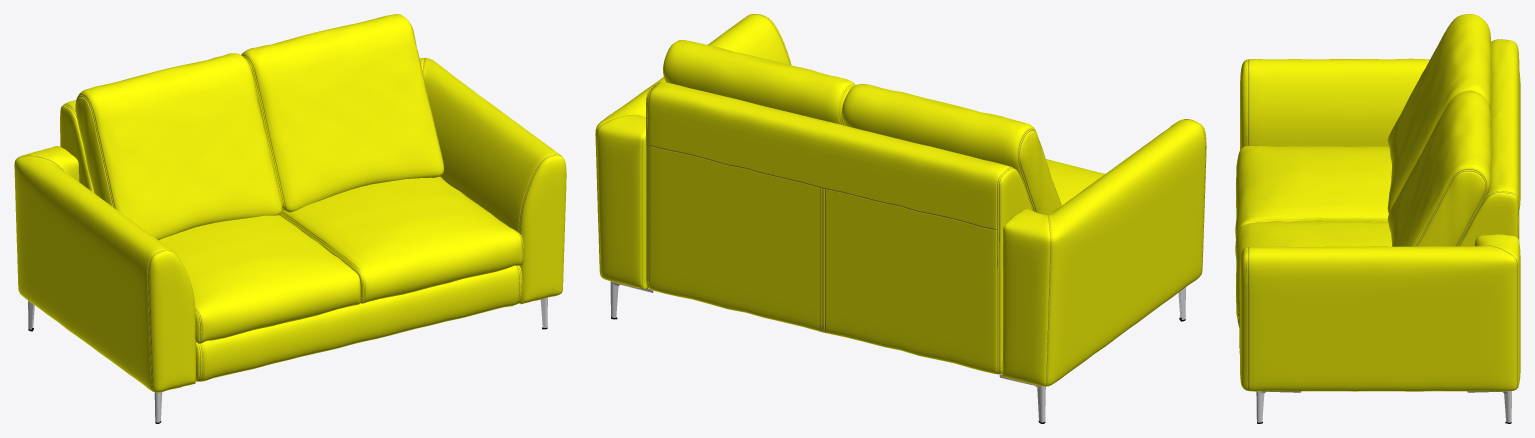
3 renders of one model, left to right at view 1: azimuth 30°, elevation 25°; view 2: azimuth 150°, elevation 25°; view 3: azimuth 270°, elevation 25°, orthographic. The views are drawn at different scales.
Visible parts, largest first — view 1: bodybeige15, armleft15, armright15, metaleg15; view 2: bodybeige15, armleft15, armright15, metaleg15; view 3: armright15, bodybeige15, armleft15, metaleg15.
Part boxes in pixels (box(x1,y1,x2,y2)): bodybeige15: box(60, 14, 523, 381); armleft15: box(14, 146, 195, 392); armright15: box(419, 58, 566, 304); metaleg15: box(28, 297, 547, 423); bodybeige15: box(646, 40, 1104, 374); armleft15: box(1002, 119, 1206, 386); armright15: box(595, 14, 791, 289); metaleg15: box(610, 281, 1185, 423); armright15: box(1240, 234, 1520, 391); bodybeige15: box(1235, 14, 1519, 353); armleft15: box(1240, 58, 1520, 209); metaleg15: box(1256, 391, 1511, 423).
Bounding box in the file's own units: 1.57 × 0.8754 × 0.9372.
8 materials, 5 textured.
